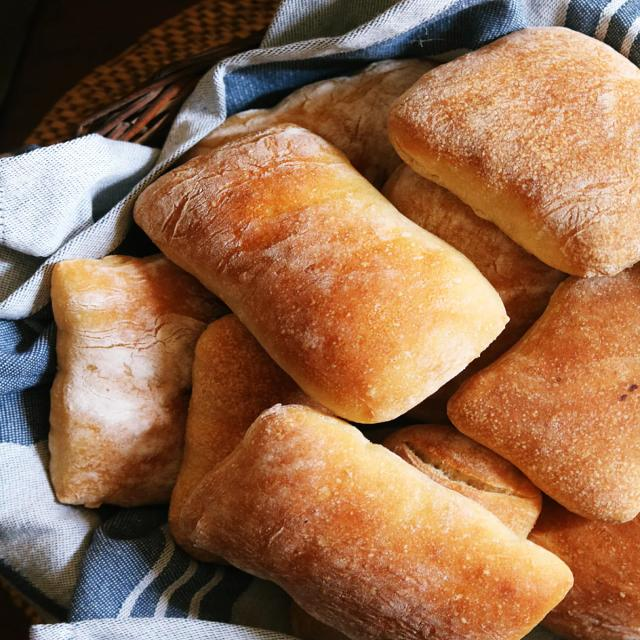Ciabatta: (136, 124, 508, 422), (185, 404, 572, 639), (389, 29, 639, 276), (448, 268, 639, 521)
